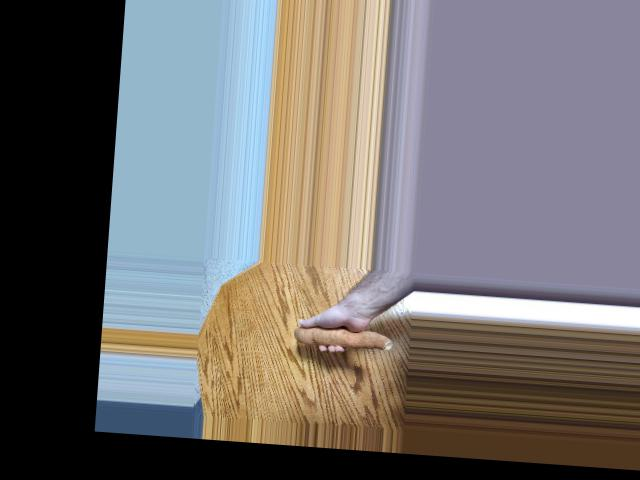sweet_potato: (292, 314, 395, 351)
